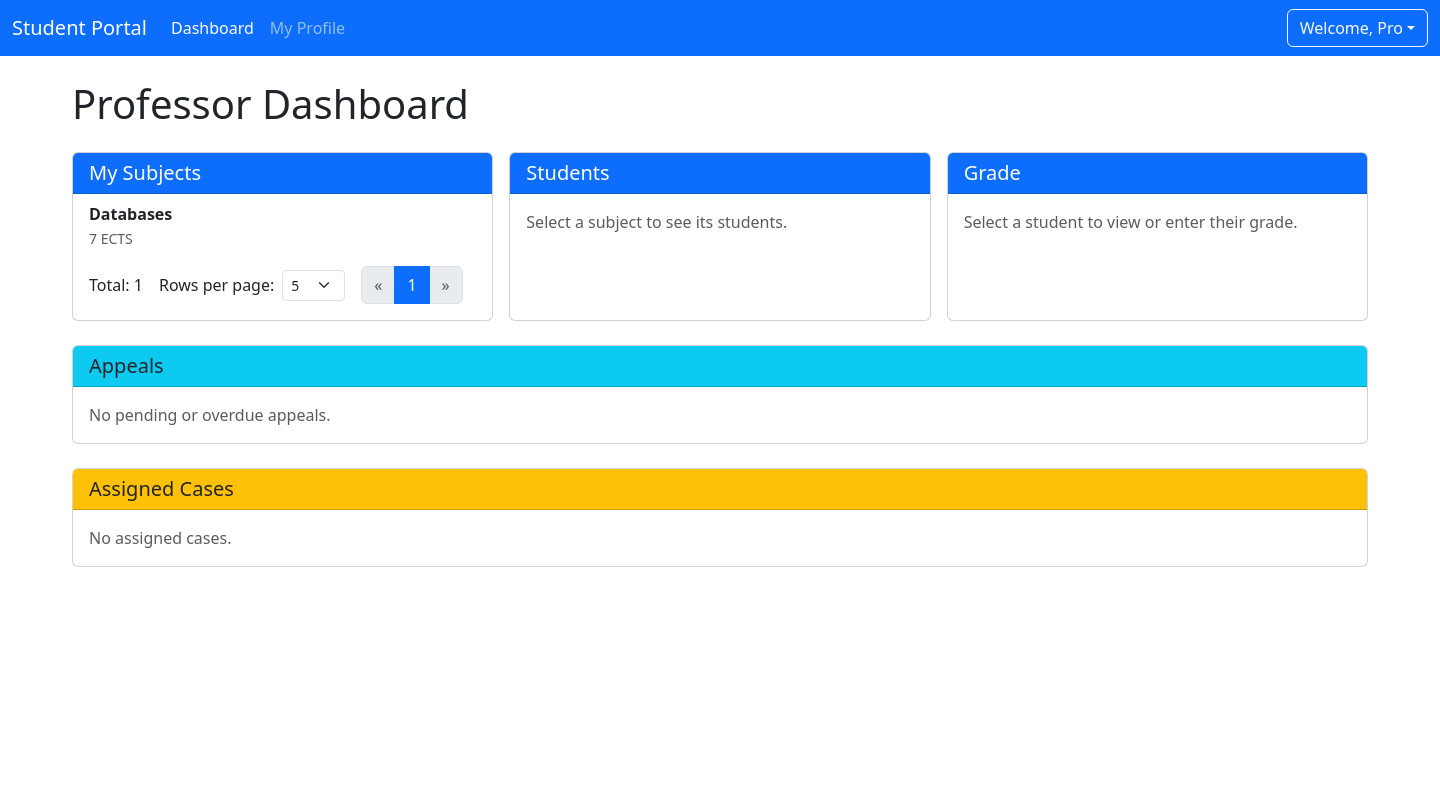
ProfessorDashboardPage (§5.4) › when a Confirmed student is selected then the read-only panel renders the final grade and inputs are disabled
Click the text "Databases" at {"x": 131, "y": 214}, box 89,203 -> 172,225
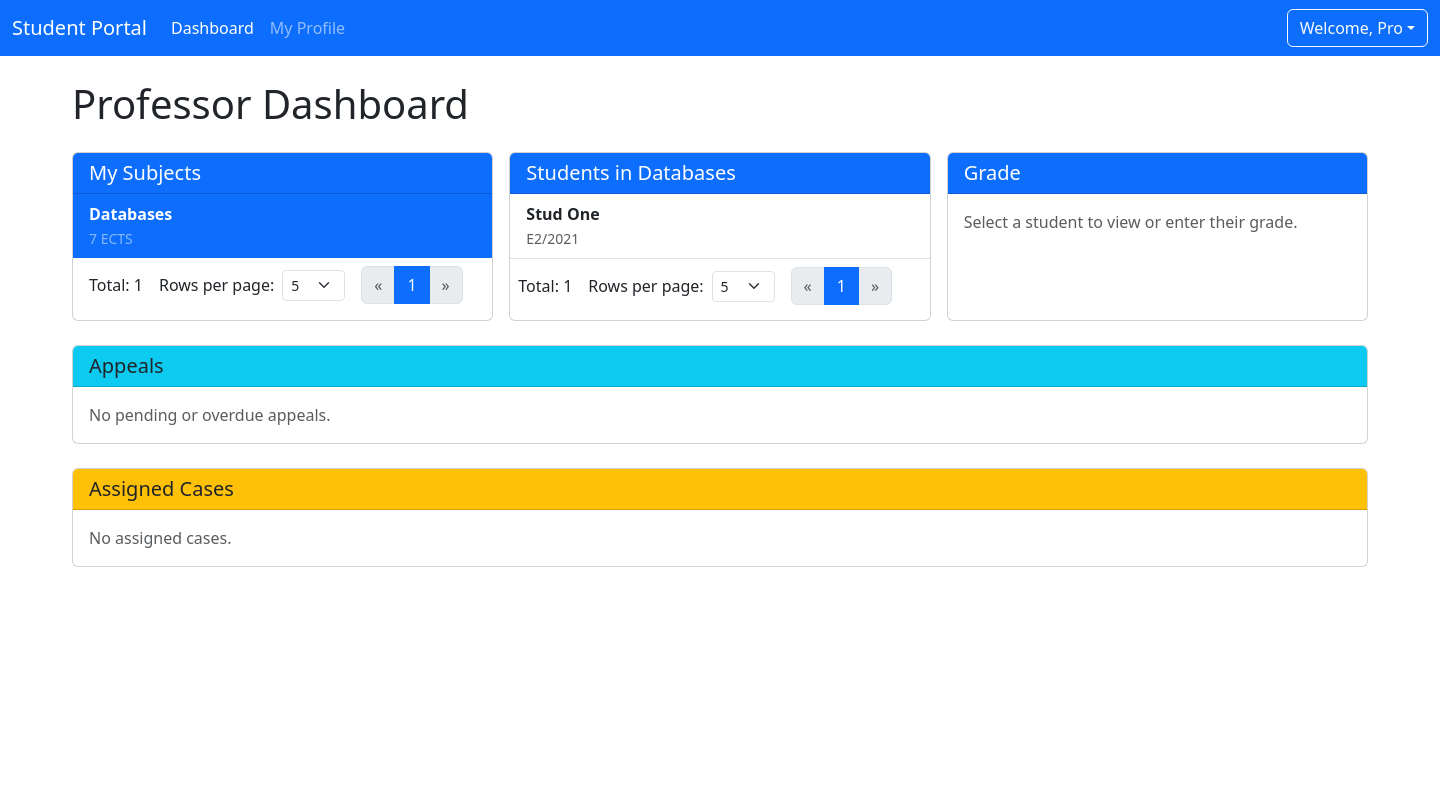
Click the text "Stud One" at {"x": 563, "y": 214}, box 526,203 -> 600,225
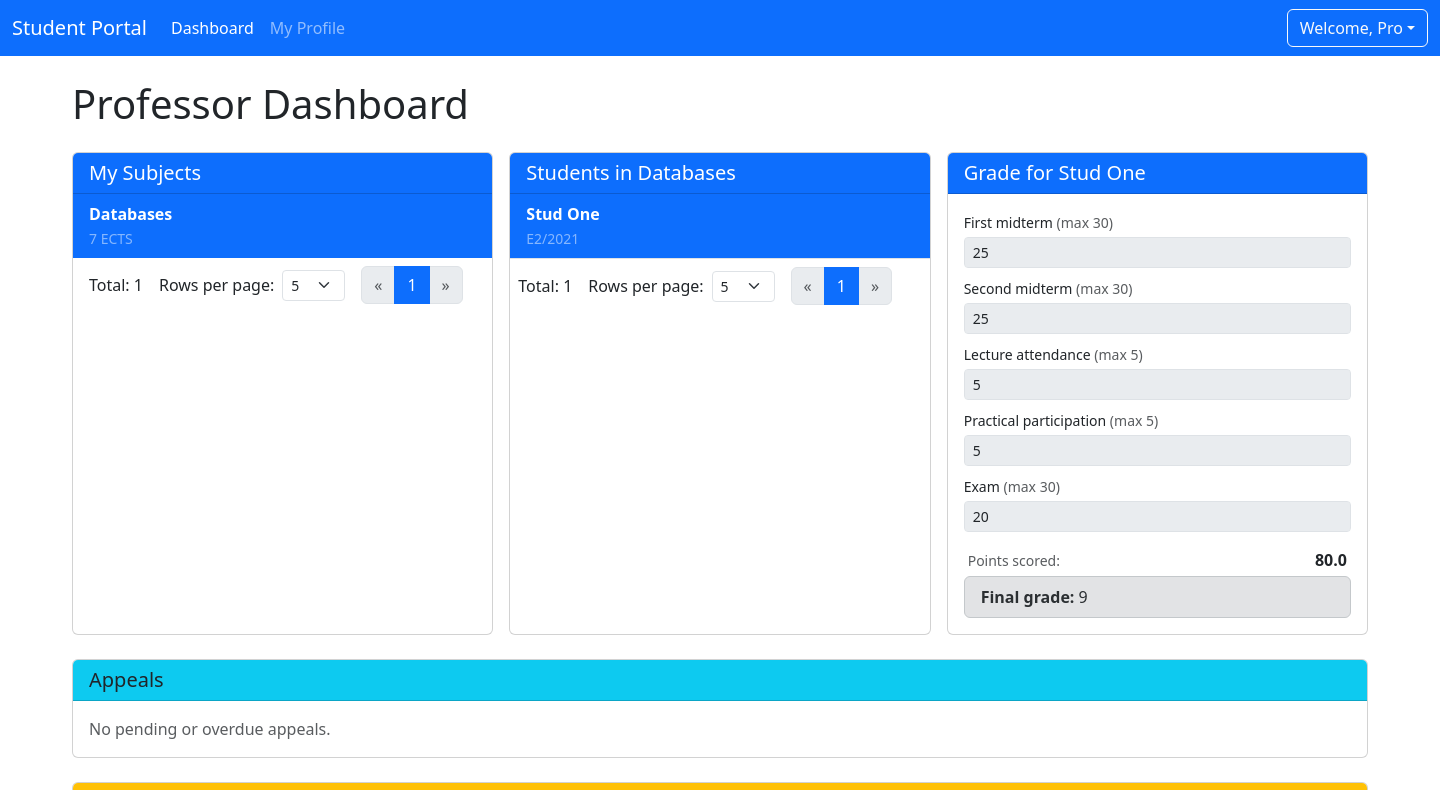
Expected: the number of number fields is 5, 964,237 -> 1351,268; 964,303 -> 1351,334; 964,369 -> 1351,400; 964,435 -> 1351,466; 964,501 -> 1351,532
Expected: the number field below "First midterm" is disabled, 964,237 -> 1351,268
Expected: the number field below "Second midterm" is disabled, 964,303 -> 1351,334
